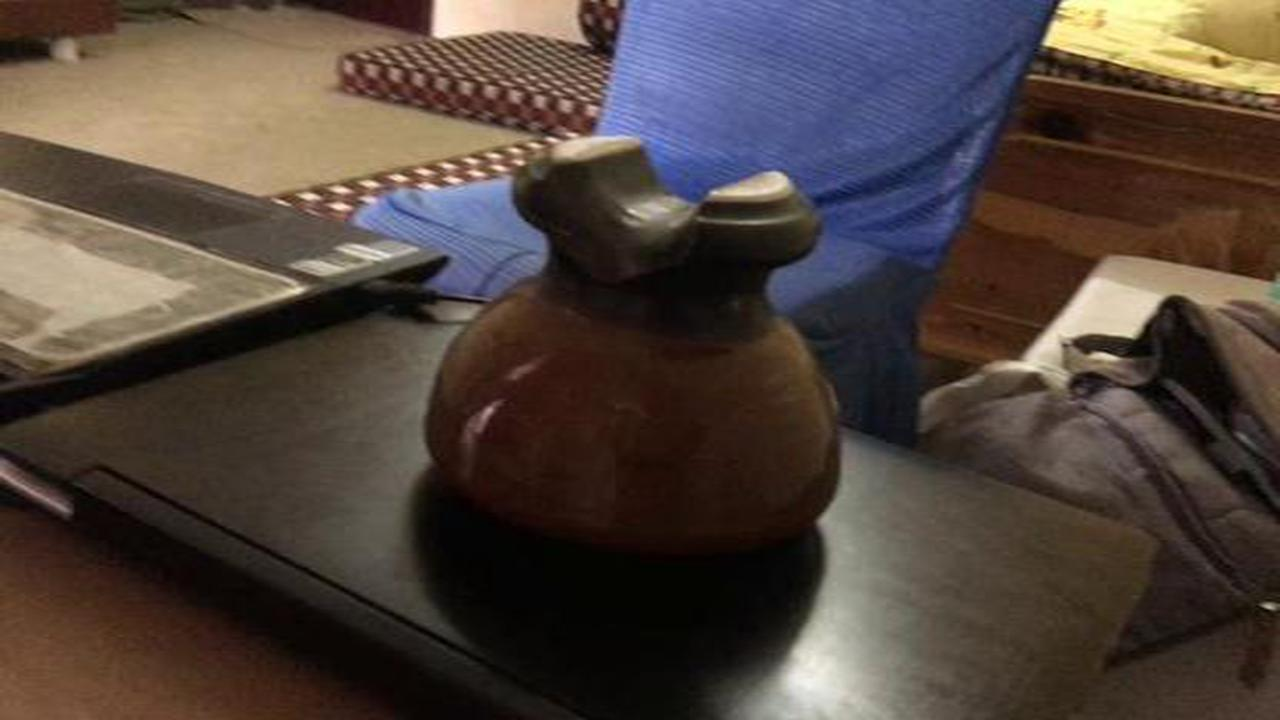insulator_pin: (407, 116, 868, 575)
